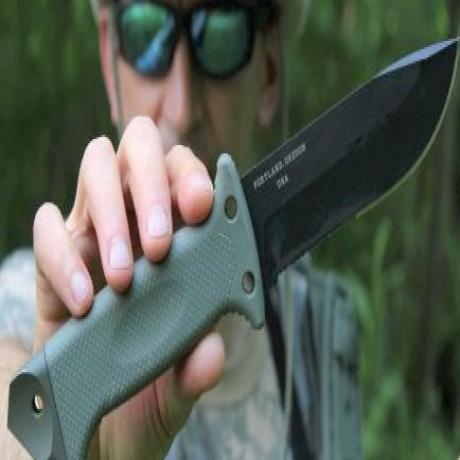1: (19, 116, 219, 460)
weapon: (214, 22, 458, 308)
